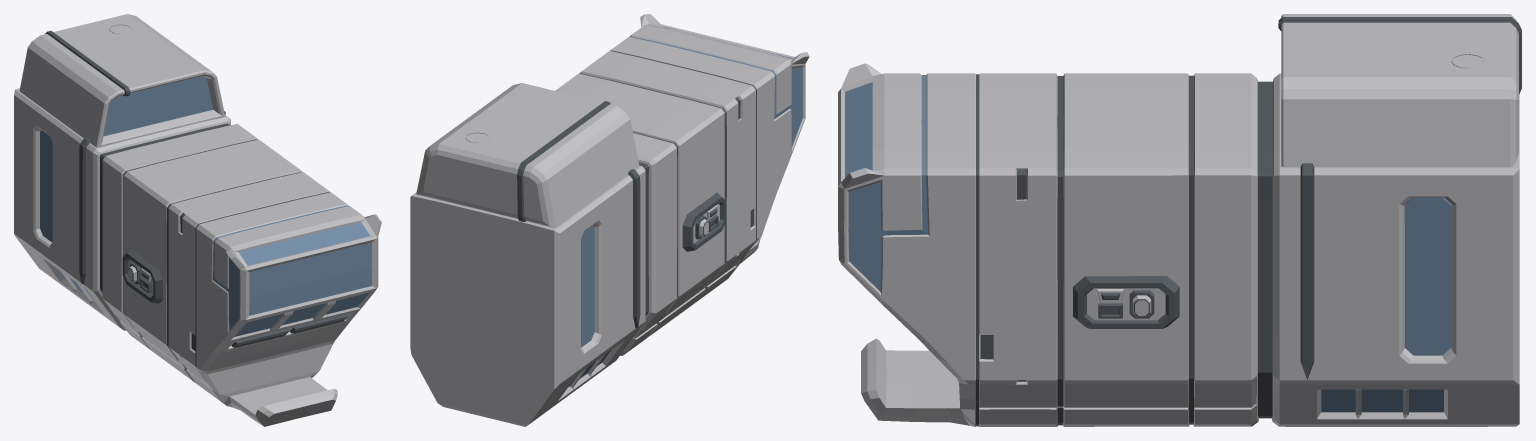
Rendered from Dropship_02_Body.fbx.
3 renders of one model, left to right at view 1: azimuth 30°, elevation 25°; view 2: azimuth 150°, elevation 25°; view 3: azimuth 270°, elevation 25°, orthographic. The views are drawn at different scales.
Visible parts, largest first — view 1: Dropship_02_Body; view 2: Dropship_02_Body; view 3: Dropship_02_Body.
Boxes of the visible parts, x1,y1,x2,y2 form: Dropship_02_Body: (14, 14, 381, 426); Dropship_02_Body: (410, 14, 809, 426); Dropship_02_Body: (838, 14, 1521, 426).
Bounding box in the file's own units: 495 × 734 × 1268.
3 materials, 3 textured.
